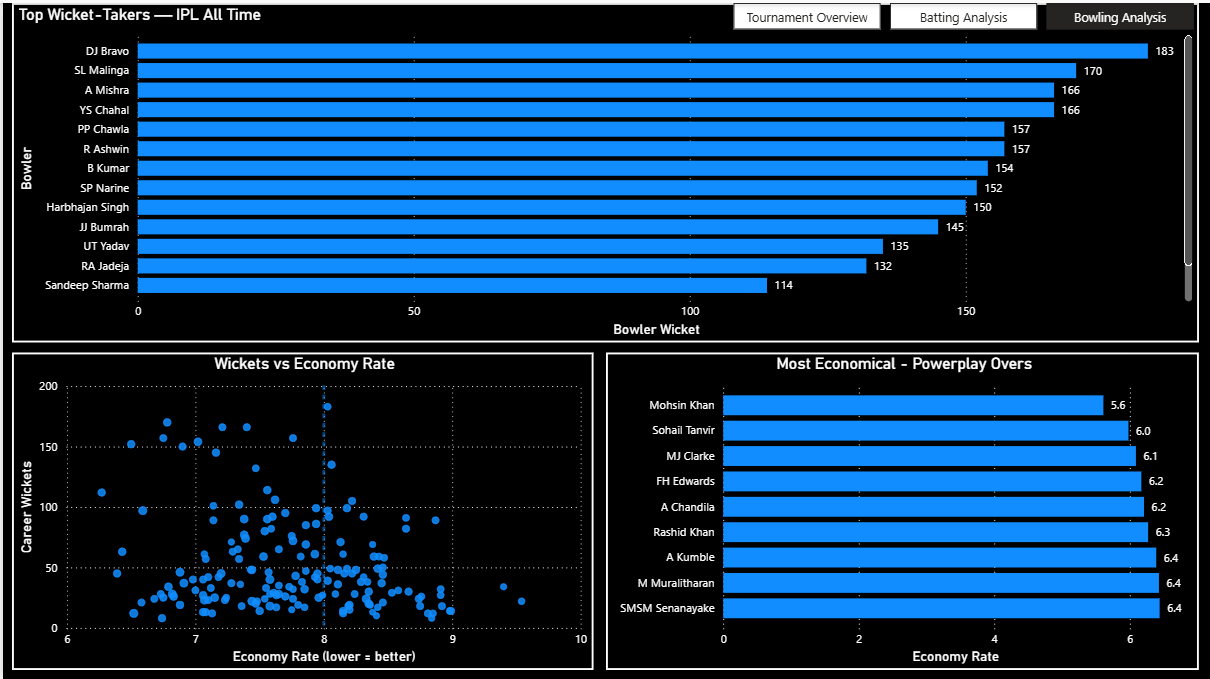

What the dashboard file says about the page in this screenshot:
{"tool":"powerbi","page":{"name":" Bowling Analysis","canvas":[1280,720],"ordinal":2},"visuals":[{"type":"clusteredBarChart","title":"Top Wicket-Takers — IPL All Time","fields":{"Category":["public fact_deliveries.bowler"],"Y":["public fact_deliveries.Bowler Wicket"]},"box":[10,0,1258.3,360],"z":0},{"type":"scatterChart","title":"Wickets vs Economy Rate","fields":{"Category":["public fact_deliveries.bowler"],"Size":["public fact_deliveries.Dot Ball %"],"X":["public fact_deliveries.Economy Rate"],"Y":["public fact_deliveries.Bowler Wicket"]},"box":[10,370,616.7,336.7],"z":1000},{"type":"clusteredBarChart","title":"Most Economical - Powerplay Overs","fields":{"Category":["public fact_deliveries.bowler"],"Y":["public fact_deliveries.Economy Rate"]},"box":[640,370,628.3,336.7],"z":2000},{"type":"pageNavigator","box":[774,0,489,28],"z":2001}]}

Visuals, with their boxes in screenshot pixels (x1, y1, x2, y2), scaled from the page's 1280x720 canvas onto the 1210x679 screenshot:
"Top Wicket-Takers — IPL All Time" clusteredBarChart: bbox=[9, 0, 1199, 340]
"Wickets vs Economy Rate" scatterChart: bbox=[9, 349, 592, 666]
"Most Economical - Powerplay Overs" clusteredBarChart: bbox=[605, 349, 1199, 666]
pageNavigator: bbox=[732, 0, 1194, 26]
